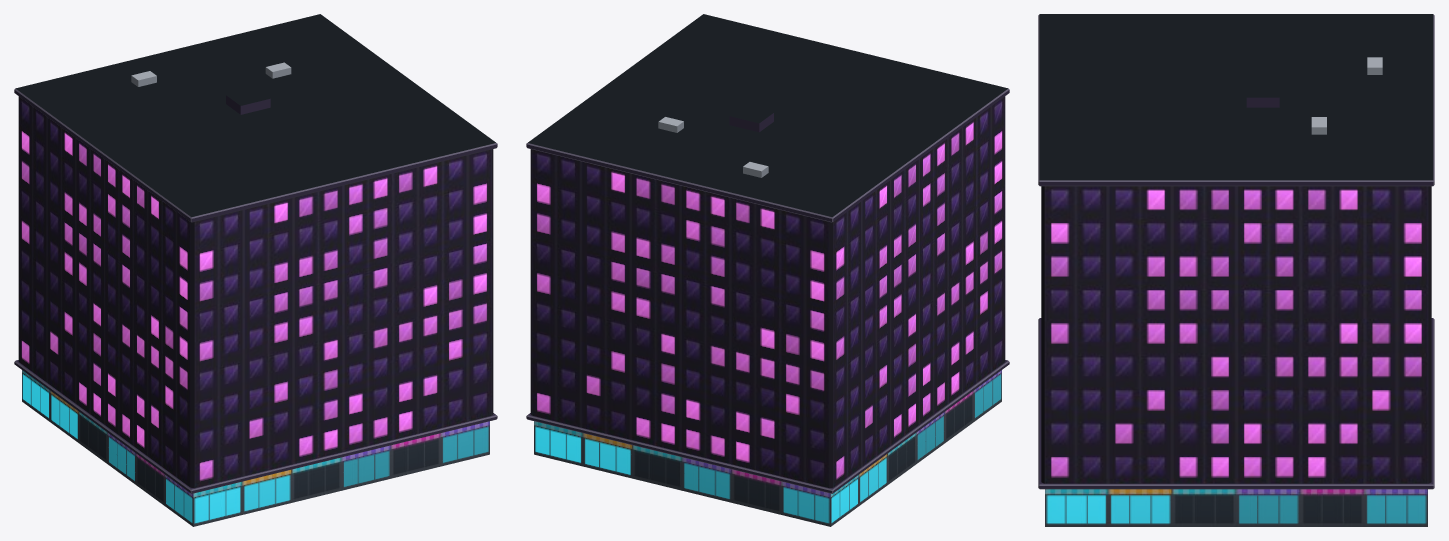
The model's file is building-36x36x36.glb.
The picture shows the model from 3 angles, left to right: view 1: azimuth 30°, elevation 25°; view 2: azimuth 150°, elevation 25°; view 3: azimuth 270°, elevation 25°; orthographic projection. The views are drawn at different scales.
Parts seen in each view (by area): view 1: building-36x36x36; view 2: building-36x36x36; view 3: building-36x36x36.
Part boxes in pixels (bbox=[...]): building-36x36x36: bbox=[14, 14, 497, 526]; building-36x36x36: bbox=[526, 14, 1009, 526]; building-36x36x36: bbox=[1038, 14, 1434, 526].
Bounding box in the file's own units: 36 × 36 × 36.
1 material, 1 textured.
